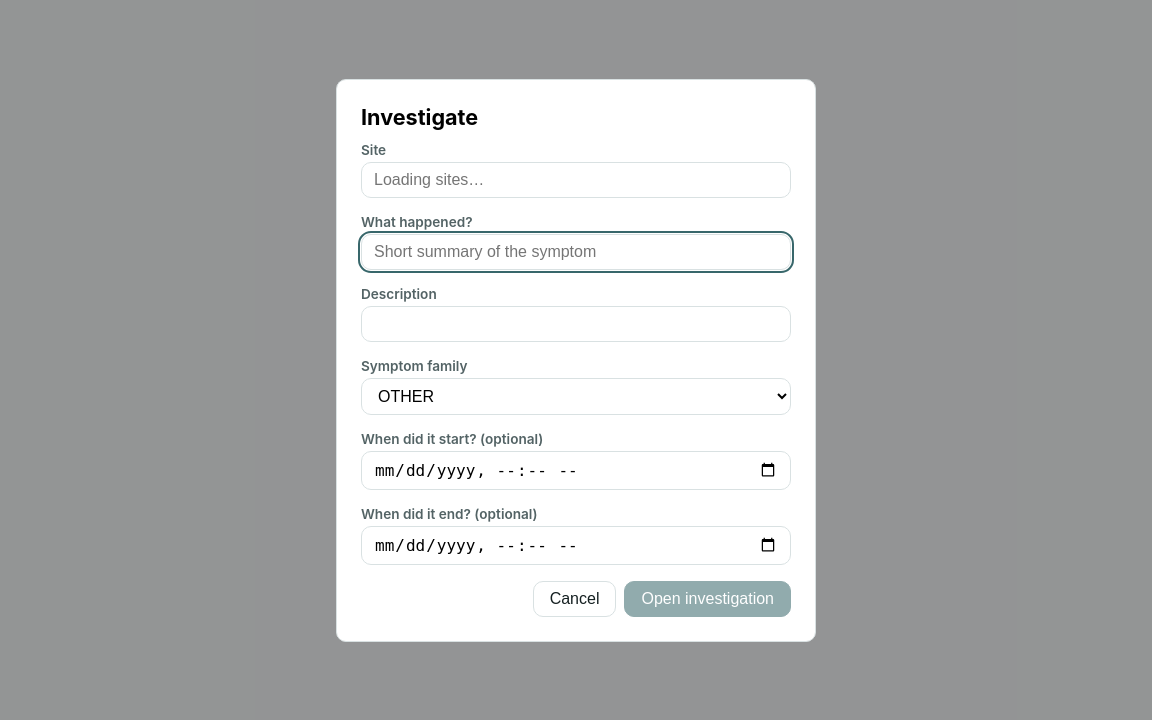
Test: InvestigateDialog › renders a non-disclosing error when the site is not found (404)
Expected: the field labelled "Site" is shown, [361,162,791,198]
Type "x" into the field labelled "What happened?" at (576, 252), box [361,234,791,270]
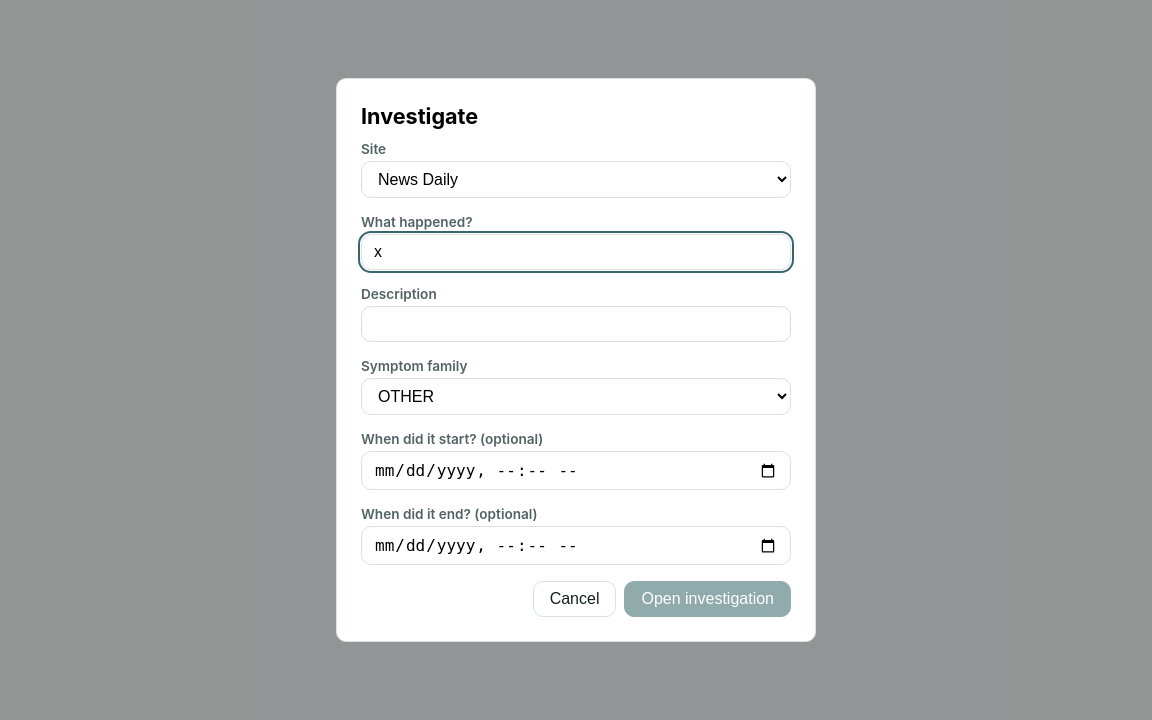
Type "y" into the field labelled "Description" at (576, 324), box [361,306,791,342]
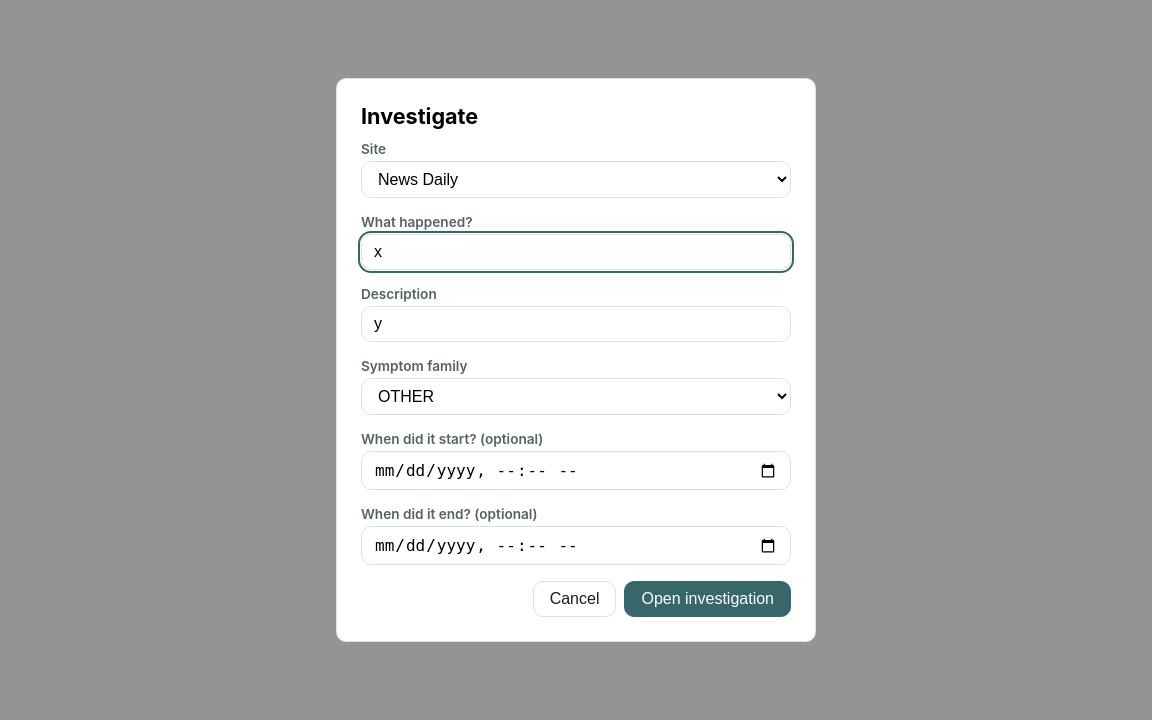
Submit the form, box [361,103,791,617]
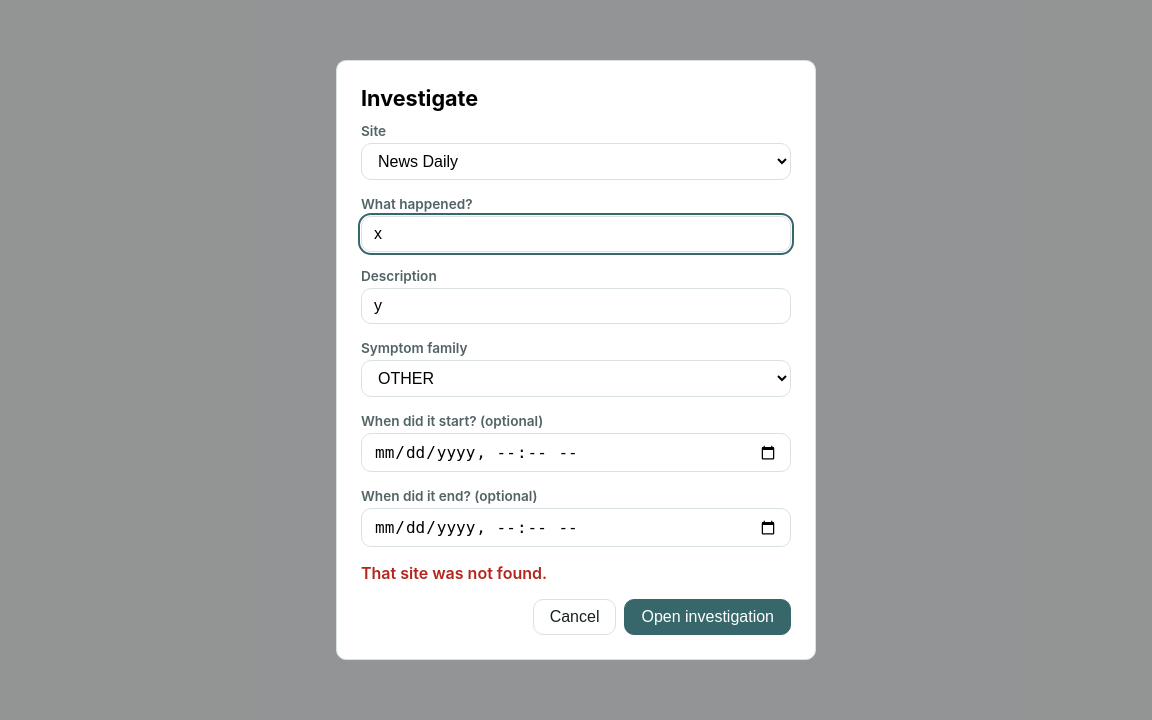
Expected: the text "That site was not found." is shown, [361,563,547,583]
